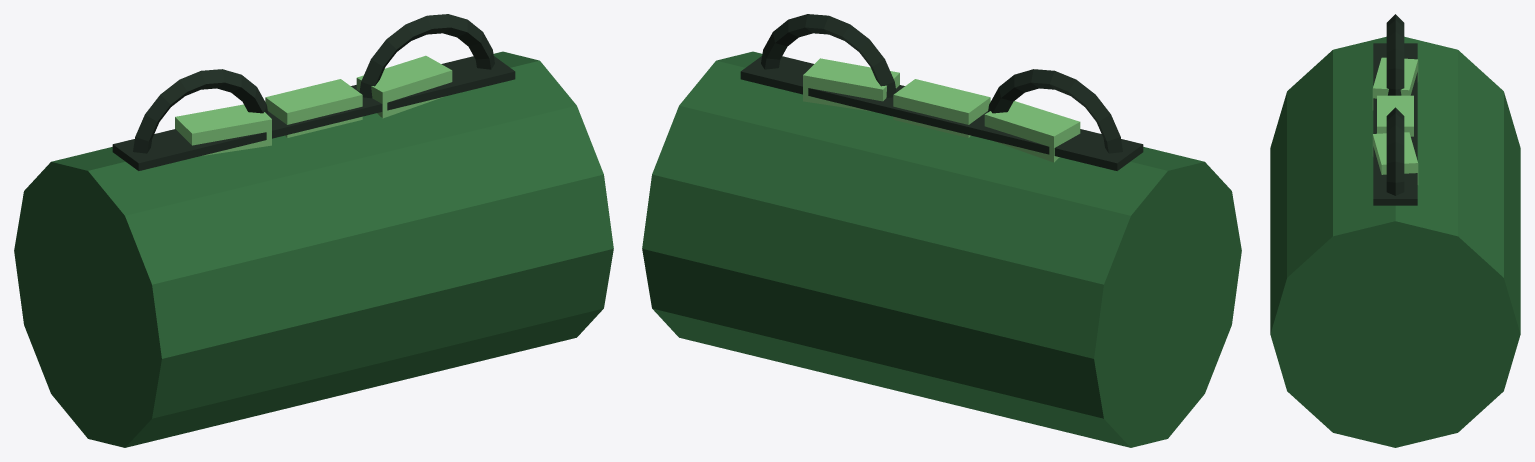
File: carwash_cash_bag.glb
3 views of the same model, side by side, from view 1: azimuth 30°, elevation 25°; view 2: azimuth 150°, elevation 25°; view 3: azimuth 270°, elevation 25° (orthographic). The views are drawn at different scales.
Parts seen in each view (by area): view 1: bag_cash_bag, bills_cash_bill, handle_cash_bag_dark, zip_cash_bag_dark; view 2: bag_cash_bag, bills_cash_bill, handle_cash_bag_dark, zip_cash_bag_dark; view 3: bag_cash_bag, bills_cash_bill, handle_cash_bag_dark, zip_cash_bag_dark.
Part boxes in pixels (left/top/right/bottom): bag_cash_bag: left=14, top=51, right=613, bottom=447; bills_cash_bill: left=175, top=55, right=452, bottom=155; handle_cash_bag_dark: left=133, top=14, right=494, bottom=153; zip_cash_bag_dark: left=112, top=56, right=515, bottom=170; bag_cash_bag: left=642, top=51, right=1241, bottom=447; bills_cash_bill: left=803, top=58, right=1080, bottom=162; handle_cash_bag_dark: left=761, top=14, right=1122, bottom=153; zip_cash_bag_dark: left=740, top=56, right=1143, bottom=170; bag_cash_bag: left=1270, top=36, right=1520, bottom=447; bills_cash_bill: left=1372, top=57, right=1418, bottom=184; handle_cash_bag_dark: left=1386, top=14, right=1404, bottom=195; zip_cash_bag_dark: left=1373, top=43, right=1417, bottom=205.
Bounding box in the file's own units: 0.6 × 0.432 × 0.34.
